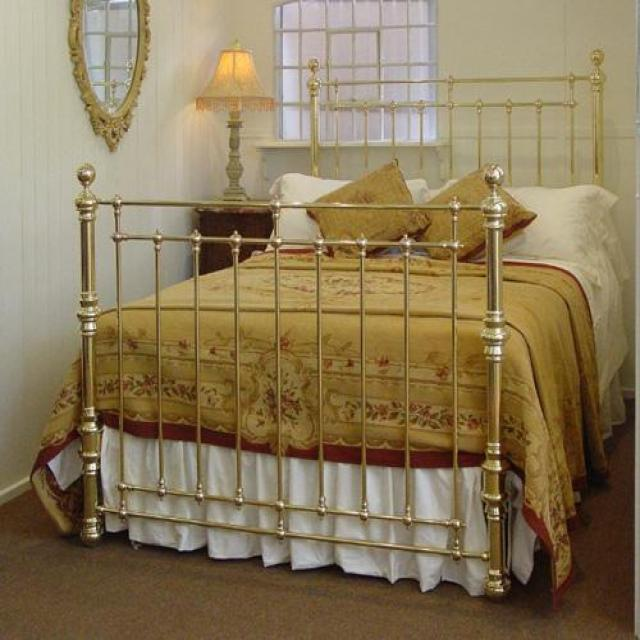bed: (29, 45, 628, 606)
